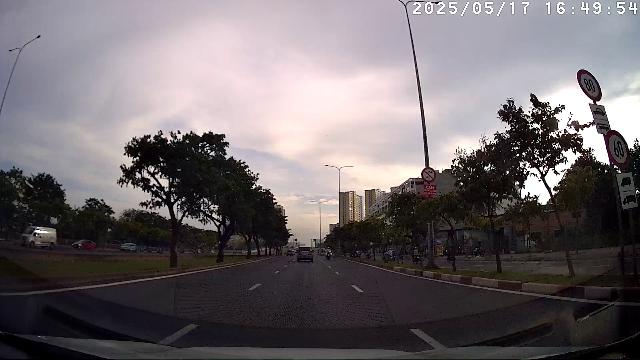127-toc-do-toi-da-60: (605, 129, 631, 169)
127-toc-do-toi-da-80: (577, 69, 603, 102)
